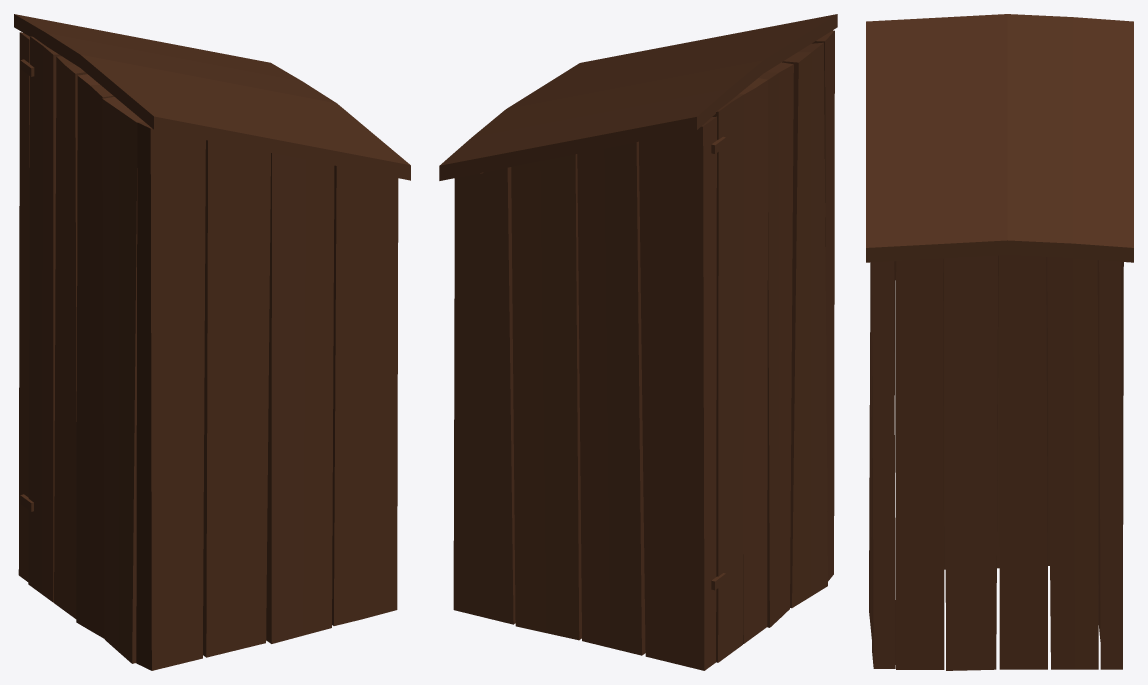
Rendered from Model_Sracz.fbx.
3 views of the same model, side by side, from view 1: azimuth 30°, elevation 25°; view 2: azimuth 150°, elevation 25°; view 3: azimuth 270°, elevation 25° (orthographic). The views are drawn at different scales.
Visible parts, largest first — view 1: Mesh_Sracz; view 2: Mesh_Sracz; view 3: Mesh_Sracz.
Part boxes in pixels (x1,y1,x2,y2): Mesh_Sracz: (14,14,410,670); Mesh_Sracz: (439,14,837,670); Mesh_Sracz: (866,14,1133,670).
Bounding box in the file's own units: 83.16 × 185 × 90.32.
